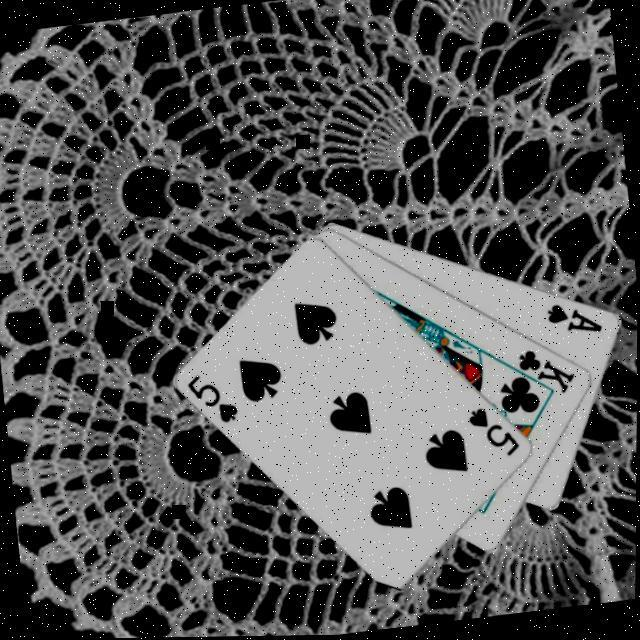5S: (466, 398, 526, 462), (184, 365, 244, 429)
AS: (545, 295, 608, 340)
KC: (504, 342, 581, 402)
